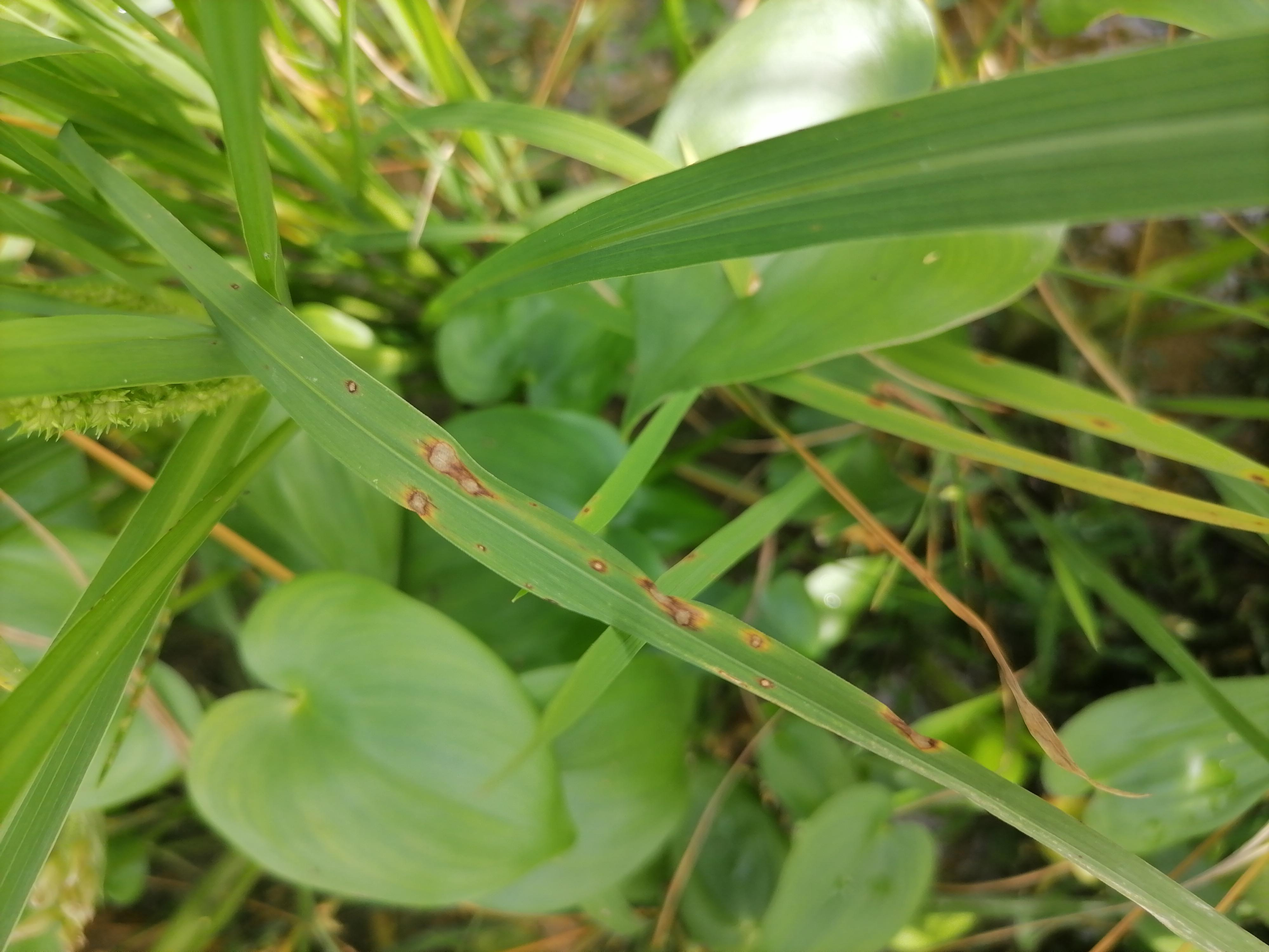Brown spot: (642, 576, 717, 651), (416, 428, 485, 503), (884, 708, 950, 773), (744, 631, 787, 670), (582, 544, 615, 585), (333, 365, 362, 401), (760, 673, 780, 698)
